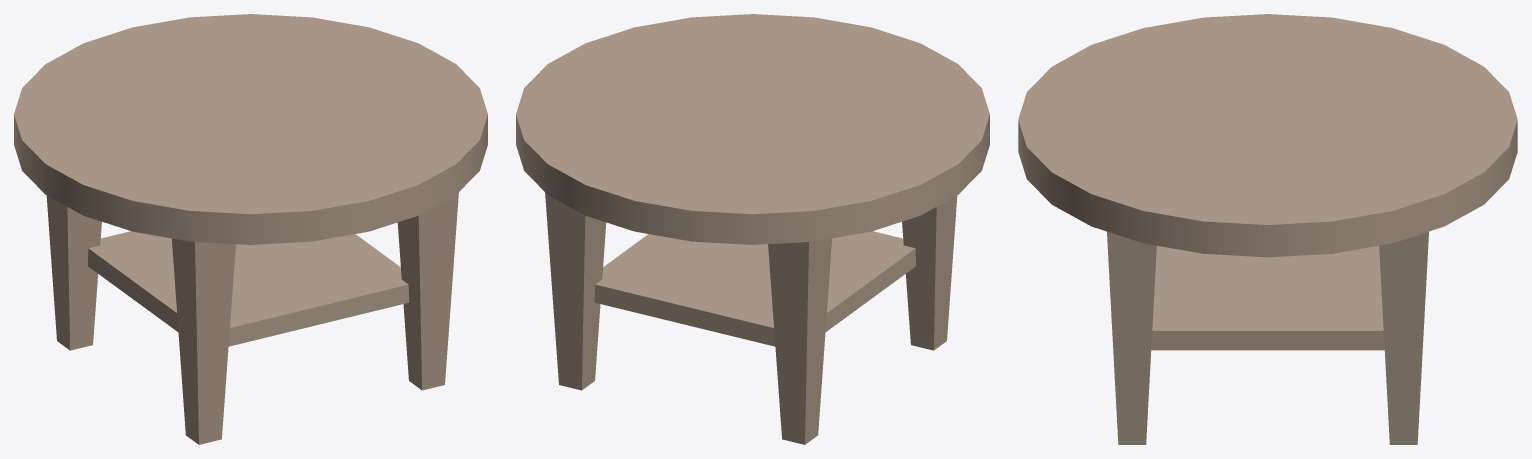
The model's file is small table_export.fbx.
The picture shows the model from 3 angles, left to right: view 1: azimuth 30°, elevation 25°; view 2: azimuth 150°, elevation 25°; view 3: azimuth 270°, elevation 25°; orthographic projection. The views are drawn at different scales.
Parts seen in each view (by area): view 1: small_table_001; view 2: small_table_001; view 3: small_table_001.
Boxes of the visible parts, x1,y1,x2,y2 form: small_table_001: (14, 14, 487, 444); small_table_001: (516, 14, 989, 444); small_table_001: (1018, 14, 1517, 444).
Size of the model in its own units: 3.68 by 2.13 by 3.68.
